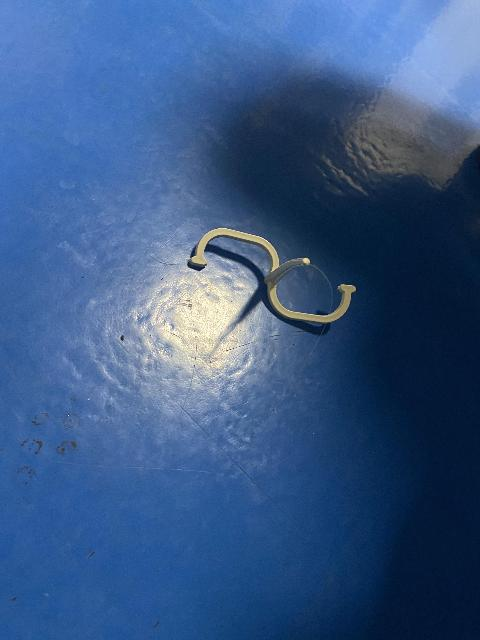Plastik: (192, 217, 352, 329)
